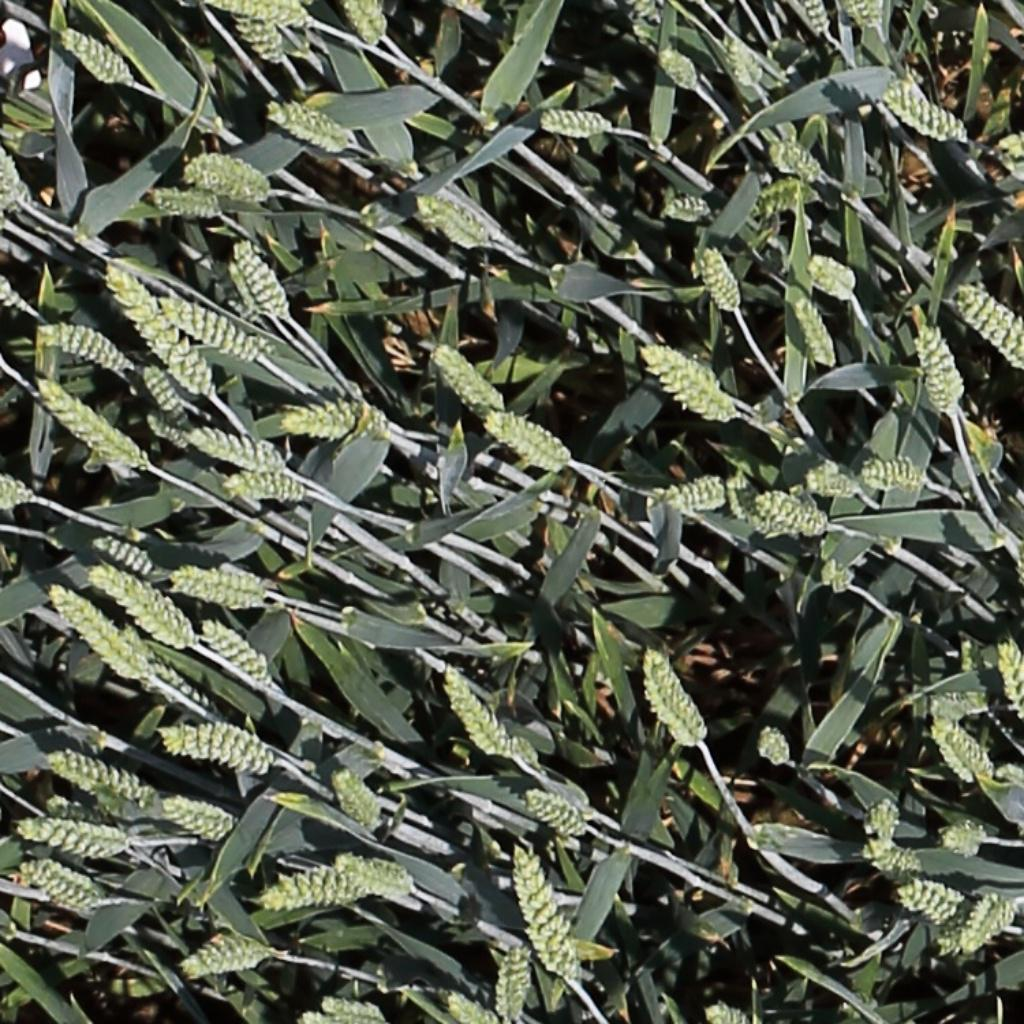0-0: (99, 255, 219, 398), (31, 371, 153, 474), (508, 840, 583, 986), (81, 562, 198, 655), (42, 584, 151, 679), (44, 744, 167, 820), (157, 288, 269, 365), (944, 282, 1024, 377), (150, 719, 276, 778), (251, 859, 380, 916), (640, 643, 710, 747), (441, 661, 516, 758), (425, 339, 513, 419), (480, 407, 575, 477), (645, 360, 741, 426), (34, 324, 140, 383), (954, 631, 1013, 736), (174, 930, 276, 990), (273, 387, 384, 441), (633, 336, 729, 398), (924, 714, 1001, 790), (882, 76, 968, 143), (12, 858, 109, 917), (183, 424, 290, 477), (177, 147, 276, 204), (911, 321, 968, 419), (724, 469, 800, 540), (265, 97, 361, 153), (198, 618, 276, 684), (12, 816, 140, 856), (329, 845, 420, 898), (168, 564, 270, 610), (58, 26, 136, 86), (232, 239, 290, 319), (140, 661, 225, 715), (415, 193, 492, 252), (160, 793, 249, 844), (484, 938, 536, 1024), (957, 889, 1021, 958), (43, 793, 137, 838), (198, 0, 321, 32), (521, 786, 594, 838), (751, 487, 829, 535), (788, 295, 839, 368), (329, 767, 387, 830), (892, 876, 965, 924), (650, 474, 731, 517), (222, 468, 310, 506), (701, 242, 749, 311), (224, 256, 276, 319), (90, 528, 159, 575), (931, 921, 1014, 959), (752, 176, 825, 219), (534, 97, 608, 138), (234, 16, 290, 69), (852, 838, 920, 881), (993, 634, 1024, 727), (719, 27, 764, 90), (149, 186, 224, 223), (797, 460, 866, 500), (917, 687, 1003, 719), (768, 140, 829, 185), (750, 718, 801, 770), (804, 251, 859, 299), (935, 814, 990, 861), (861, 454, 932, 489), (137, 364, 186, 411), (439, 985, 498, 1024), (0, 142, 30, 217), (341, 0, 388, 46), (858, 792, 904, 839), (657, 49, 705, 91), (659, 192, 718, 225), (321, 994, 388, 1023), (146, 410, 195, 447), (845, 0, 889, 36), (998, 125, 1024, 185), (505, 733, 544, 773), (0, 468, 37, 510), (819, 559, 855, 597), (800, 0, 834, 39), (702, 1001, 750, 1024), (0, 272, 25, 315), (294, 1010, 338, 1024)
